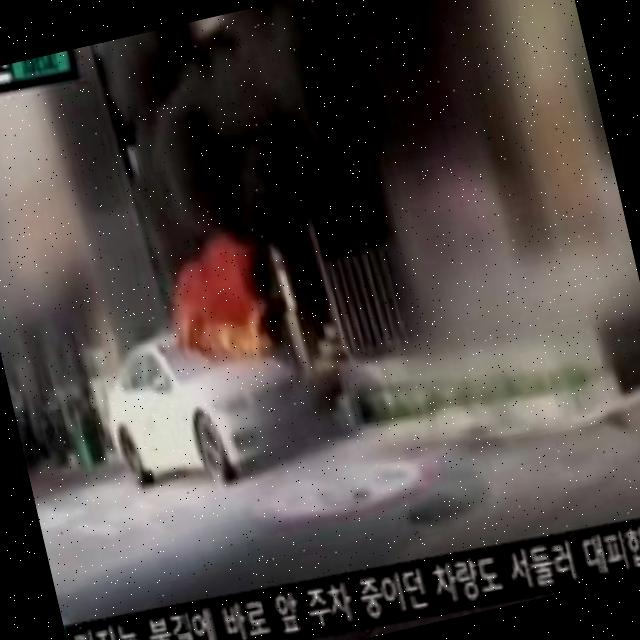fire: (157, 212, 283, 376)
